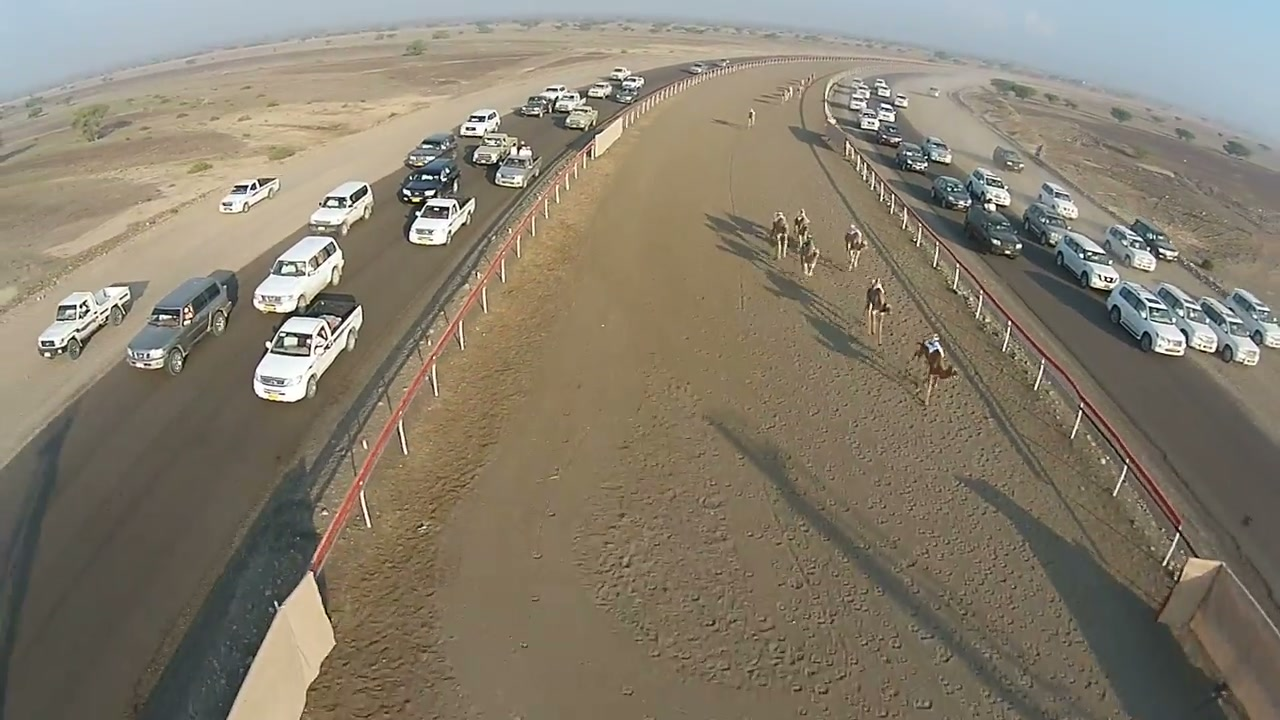animal_footprint: (855, 335, 1064, 711), (780, 322, 866, 660), (510, 364, 595, 670)
